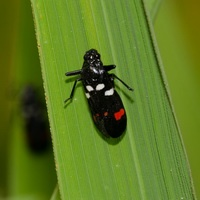insect: (64, 49, 132, 137), (21, 85, 50, 151)
